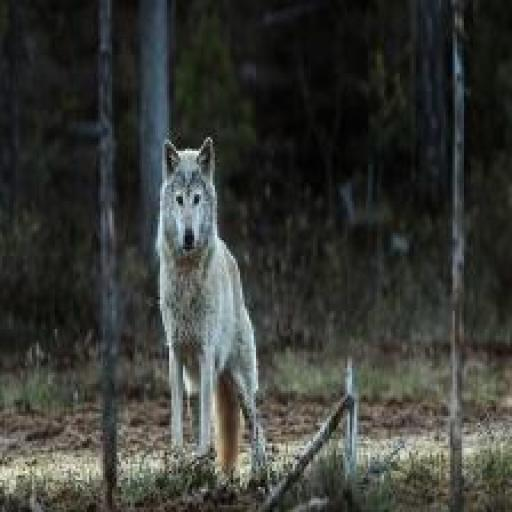wolf: (151, 130, 271, 478)
